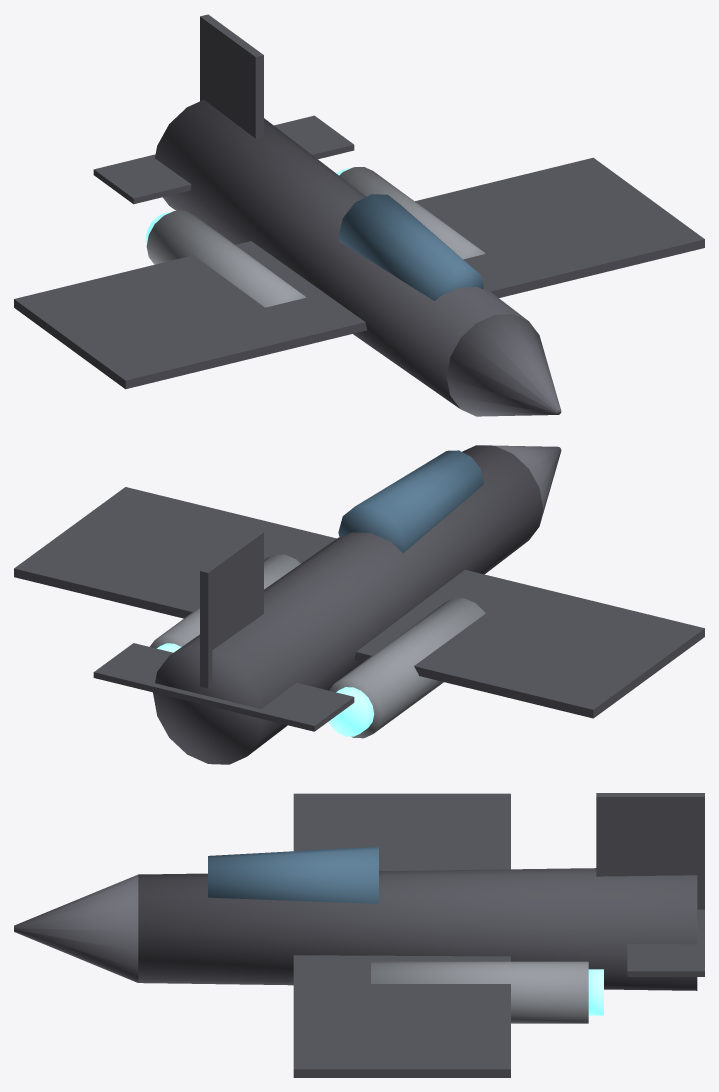
Rendered from 1d227c2f-ccf5-46be-87bf-13670a57457e.glb.
3 renders of one model, top to bottom at view 1: azimuth 30°, elevation 25°; view 2: azimuth 150°, elevation 25°; view 3: azimuth 270°, elevation 25°, orthographic. The views are drawn at different scales.
Visible parts, largest first — view 1: Generated3DMesh; view 2: Generated3DMesh; view 3: Generated3DMesh.
Boxes of the visible parts, x1,y1,x2,y2 form: Generated3DMesh: (14, 14, 704, 416); Generated3DMesh: (14, 445, 704, 764); Generated3DMesh: (14, 793, 704, 1077).
Bounding box in the file's own units: 4.2 × 1.35 × 4.45.
